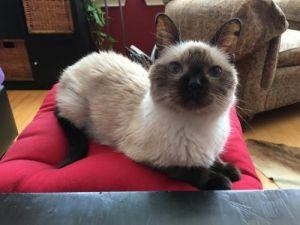siamese: (142, 8, 250, 124)
